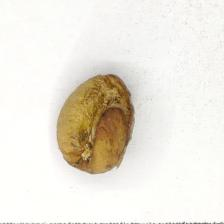NG: (57, 74, 126, 162)
